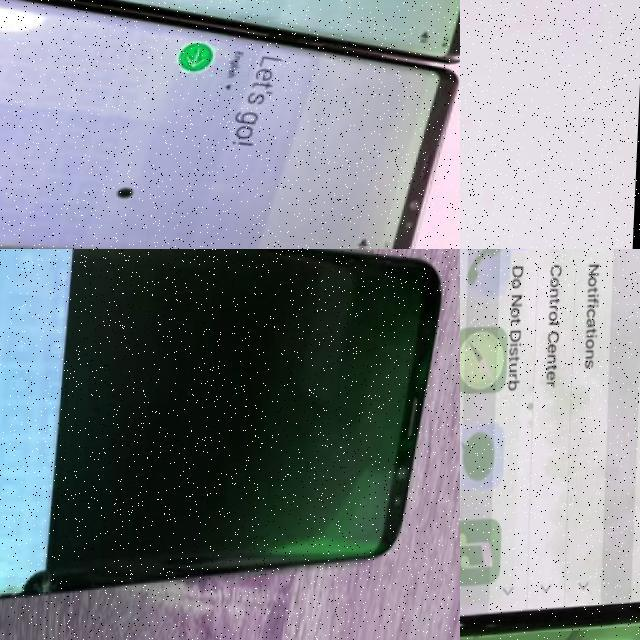dead pixel: (18, 555, 60, 614), (110, 181, 151, 212)
